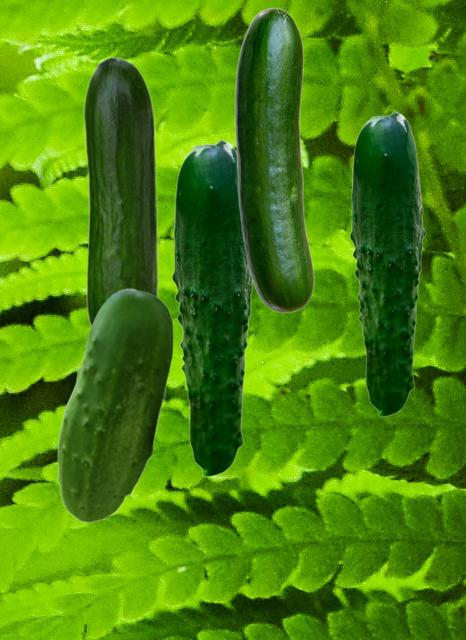cucumber: (171, 139, 253, 476), (57, 288, 172, 522), (234, 7, 313, 312), (349, 111, 425, 416), (83, 56, 158, 326)
